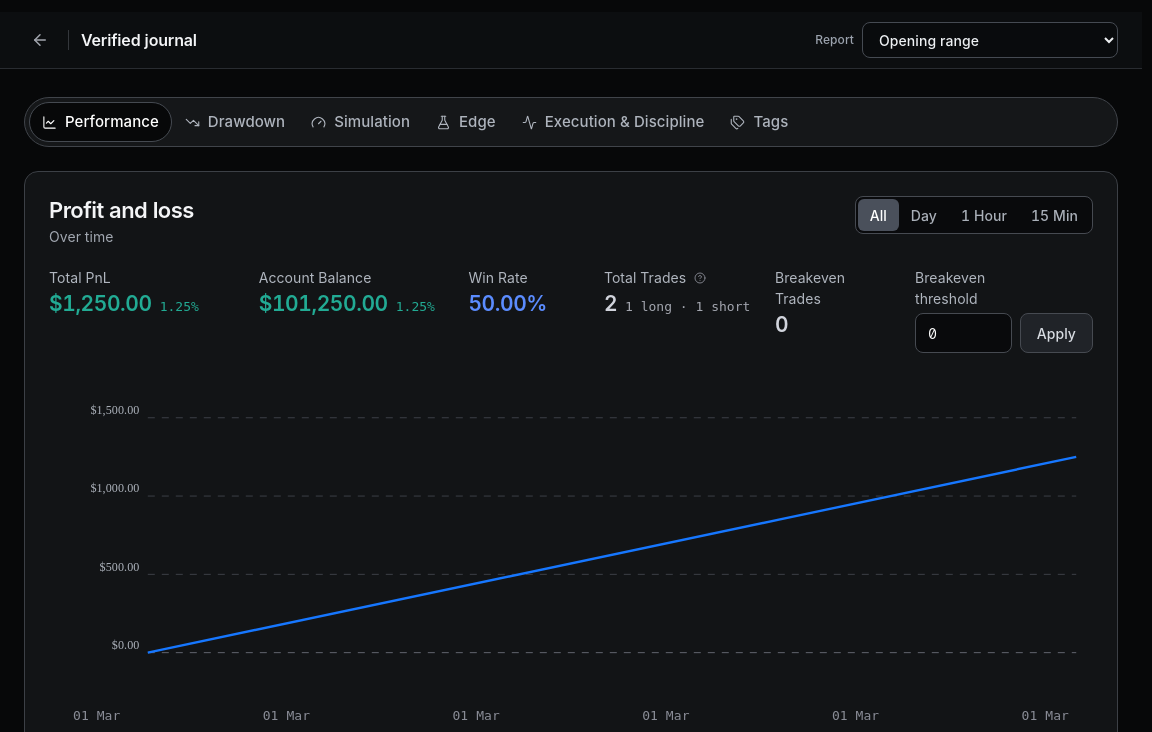
Test case: AnalyticsScreen › does not show an alert for a small number of excluded simulation trades
Click the tab "Simulation" at (361, 122), box [298,102,423,142]
(page scrolled)
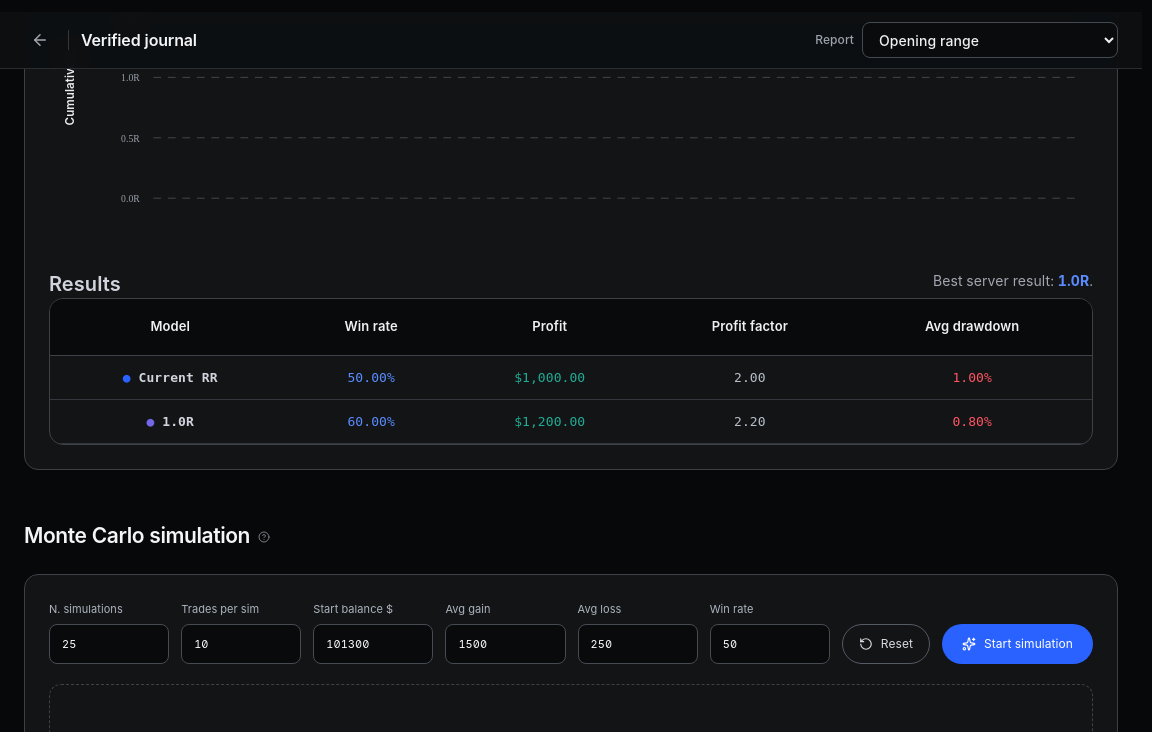
Now the table named "Risk-reward simulation results" is shown, box [50,299,1092,444]
